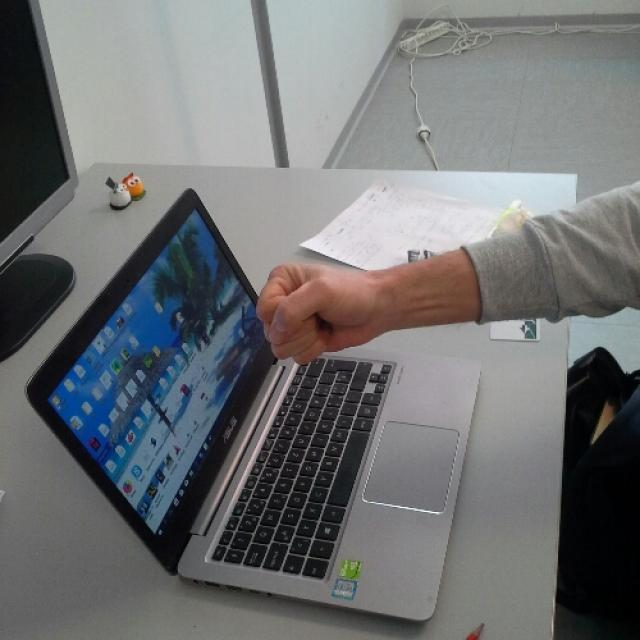rock: (254, 262, 372, 366)
